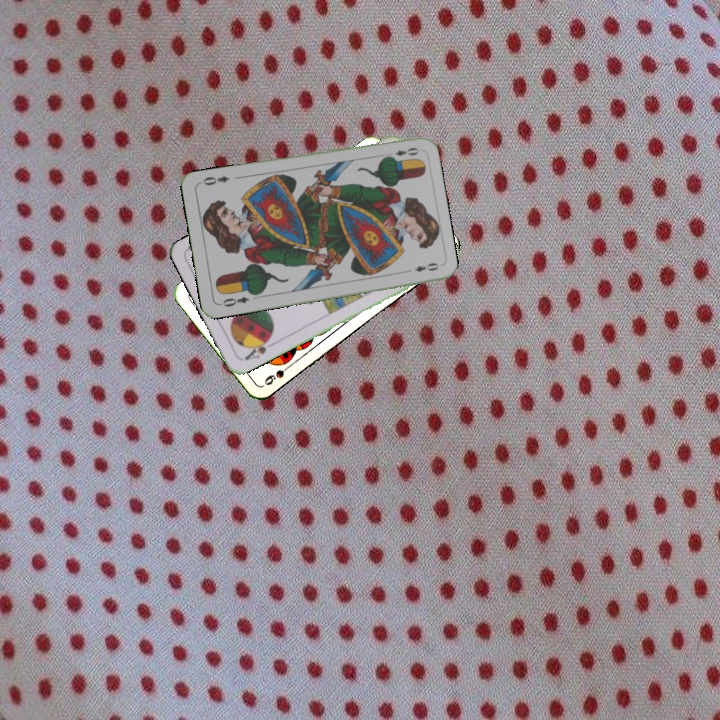EO: (382, 143, 421, 162), (215, 293, 251, 309)
S9: (260, 359, 296, 388)
SA: (240, 333, 277, 363)
